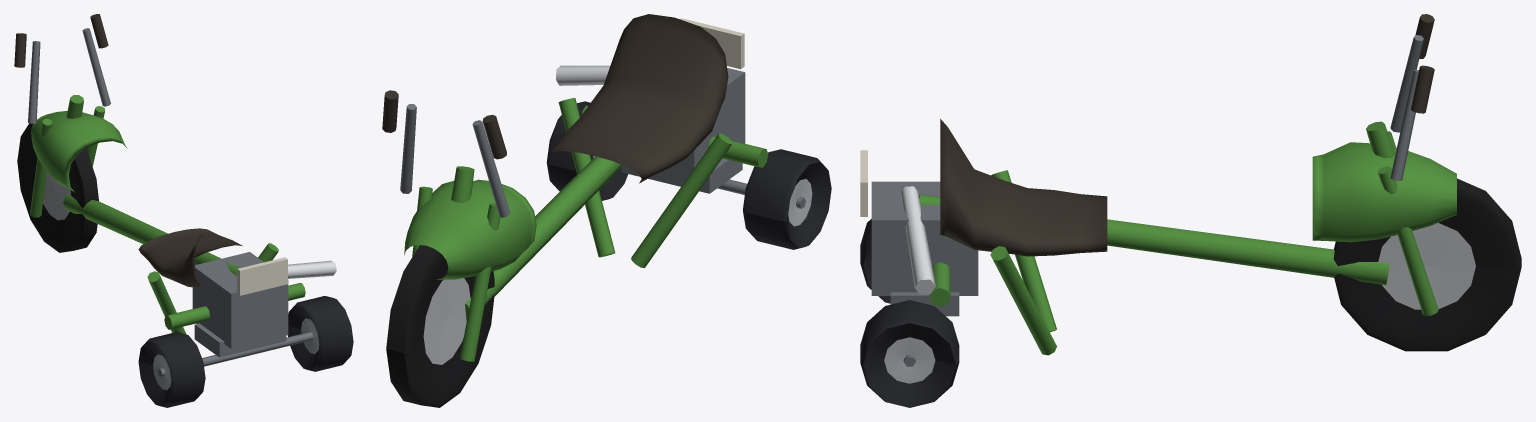
Rendered from vehicle_grnmchn.glb.
3 views of the same model, side by side, from view 1: azimuth 30°, elevation 25°; view 2: azimuth 150°, elevation 25°; view 3: azimuth 270°, elevation 25° (orthographic). The views are drawn at different scales.
Visible parts, largest first — view 1: vehicle_grnmchn_engine, wheel_0_tyre, vehicle_grnmchn_frame, wheel_1_tyre, vehicle_grnmchn_fairing, wheel_2_tyre, vehicle_grnmchn_seat, vehicle_grnmchn_plate, steer_fork_legs, vehicle_grnmchn_axle, wheel_0_rim, vehicle_grnmchn_exhaust (+6 smaller); view 2: vehicle_grnmchn_seat, vehicle_grnmchn_frame, wheel_0_tyre, vehicle_grnmchn_fairing, wheel_1_tyre, vehicle_grnmchn_engine, wheel_0_rim, steer_fork_legs, wheel_2_tyre, steer_lever_l_arm, vehicle_grnmchn_plate, vehicle_grnmchn_exhaust (+4 smaller); view 3: wheel_0_tyre, vehicle_grnmchn_seat, vehicle_grnmchn_frame, vehicle_grnmchn_fairing, vehicle_grnmchn_engine, wheel_2_tyre, wheel_0_rim, steer_fork_legs, vehicle_grnmchn_exhaust, wheel_2_rim, steer_lever_r_arm, steer_lever_l_arm (+2 smaller).
Part boxes in pixels (left/top/right/bottom): vehicle_grnmchn_engine: left=192, top=252, right=288, bottom=357; wheel_0_tyre: left=17, top=123, right=98, bottom=252; vehicle_grnmchn_frame: left=63, top=194, right=305, bottom=333; wheel_1_tyre: left=138, top=332, right=205, bottom=407; vehicle_grnmchn_fairing: left=31, top=111, right=127, bottom=192; wheel_2_tyre: left=288, top=296, right=353, bottom=371; vehicle_grnmchn_seat: left=138, top=228, right=242, bottom=287; vehicle_grnmchn_plate: left=237, top=257, right=287, bottom=295; steer_fork_legs: left=30, top=95, right=104, bottom=217; vehicle_grnmchn_axle: left=158, top=332, right=313, bottom=376; wheel_0_rim: left=43, top=171, right=71, bottom=220; vehicle_grnmchn_exhaust: left=236, top=260, right=336, bottom=278; vehicle_grnmchn_seat: left=550, top=14, right=728, bottom=183; vehicle_grnmchn_frame: left=465, top=98, right=768, bottom=321; wheel_0_tyre: left=386, top=245, right=494, bottom=407; vehicle_grnmchn_fairing: left=404, top=179, right=536, bottom=279; wheel_1_tyre: left=743, top=149, right=831, bottom=249; vehicle_grnmchn_engine: left=621, top=68, right=745, bottom=193; wheel_0_rim: left=423, top=278, right=470, bottom=364; steer_fork_legs: left=412, top=166, right=500, bottom=361; wheel_2_tyre: left=546, top=101, right=628, bottom=200; steer_lever_l_arm: left=472, top=120, right=510, bottom=217; vehicle_grnmchn_plate: left=680, top=18, right=744, bottom=69; vehicle_grnmchn_exhaust: left=556, top=65, right=610, bottom=85; wheel_0_tyre: left=1333, top=178, right=1521, bottom=351; vehicle_grnmchn_seat: left=940, top=119, right=1107, bottom=256; vehicle_grnmchn_frame: left=919, top=170, right=1389, bottom=355; vehicle_grnmchn_fairing: left=1312, top=142, right=1456, bottom=242; vehicle_grnmchn_engine: left=871, top=181, right=978, bottom=316; wheel_2_tyre: left=860, top=300, right=959, bottom=407; wheel_0_rim: left=1378, top=223, right=1475, bottom=309; steer_fork_legs: left=1366, top=121, right=1438, bottom=316; vehicle_grnmchn_exhaust: left=900, top=186, right=935, bottom=294; wheel_2_rim: left=884, top=337, right=935, bottom=383; steer_lever_r_arm: left=1390, top=69, right=1418, bottom=181; steer_lever_l_arm: left=1390, top=35, right=1423, bottom=132.
Size of the model in its own units: 0.771 by 0.8932 by 1.74.
